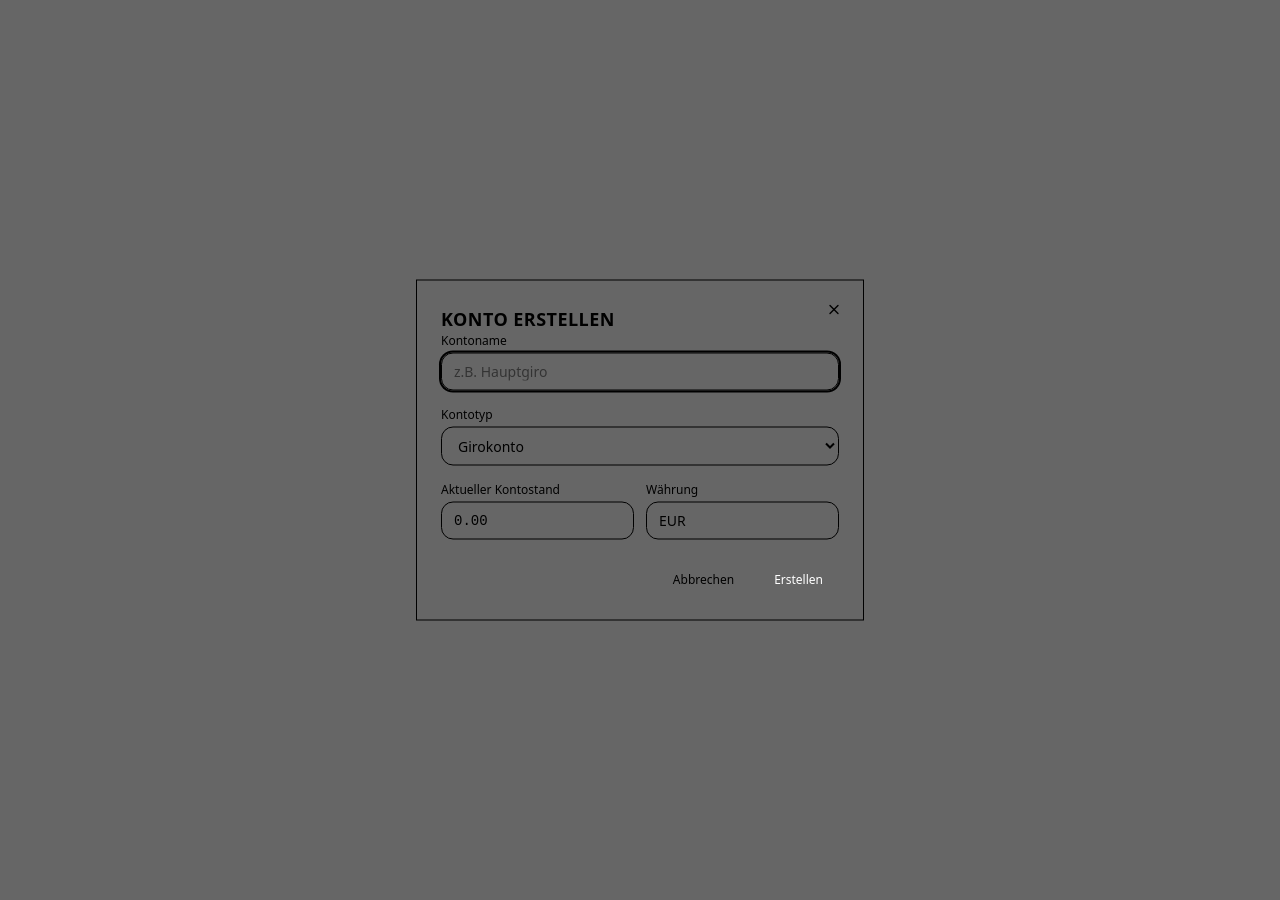
Test: dialogs surface failed saves › AccountDialog shows the server message and stays open
The width and height of the screenshot is (1280, 900).
Type "Main" into the field labelled "Kontoname" at (640, 372), box [441, 352, 839, 390]
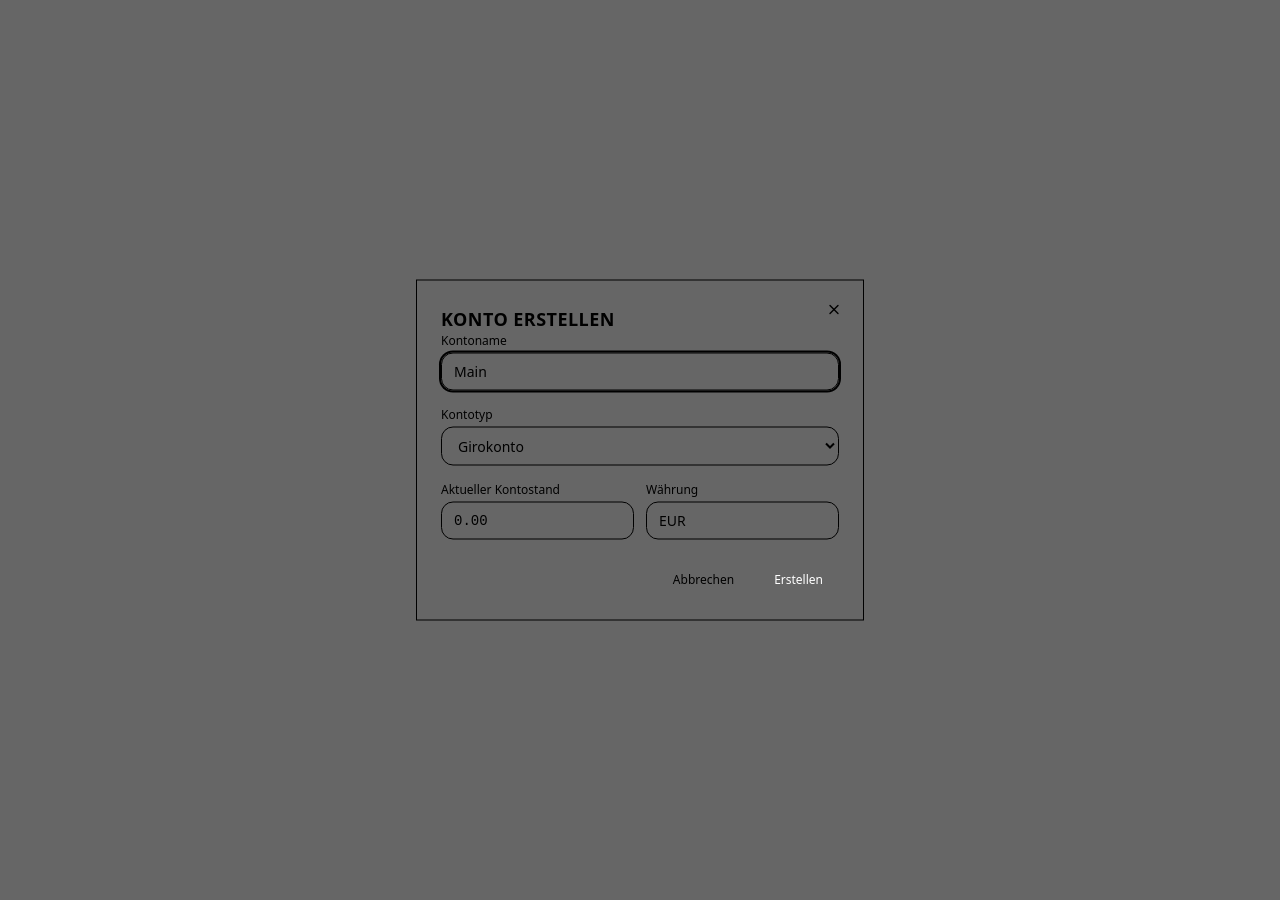
Submit the form labelled "Kontoname", box [441, 332, 839, 596]
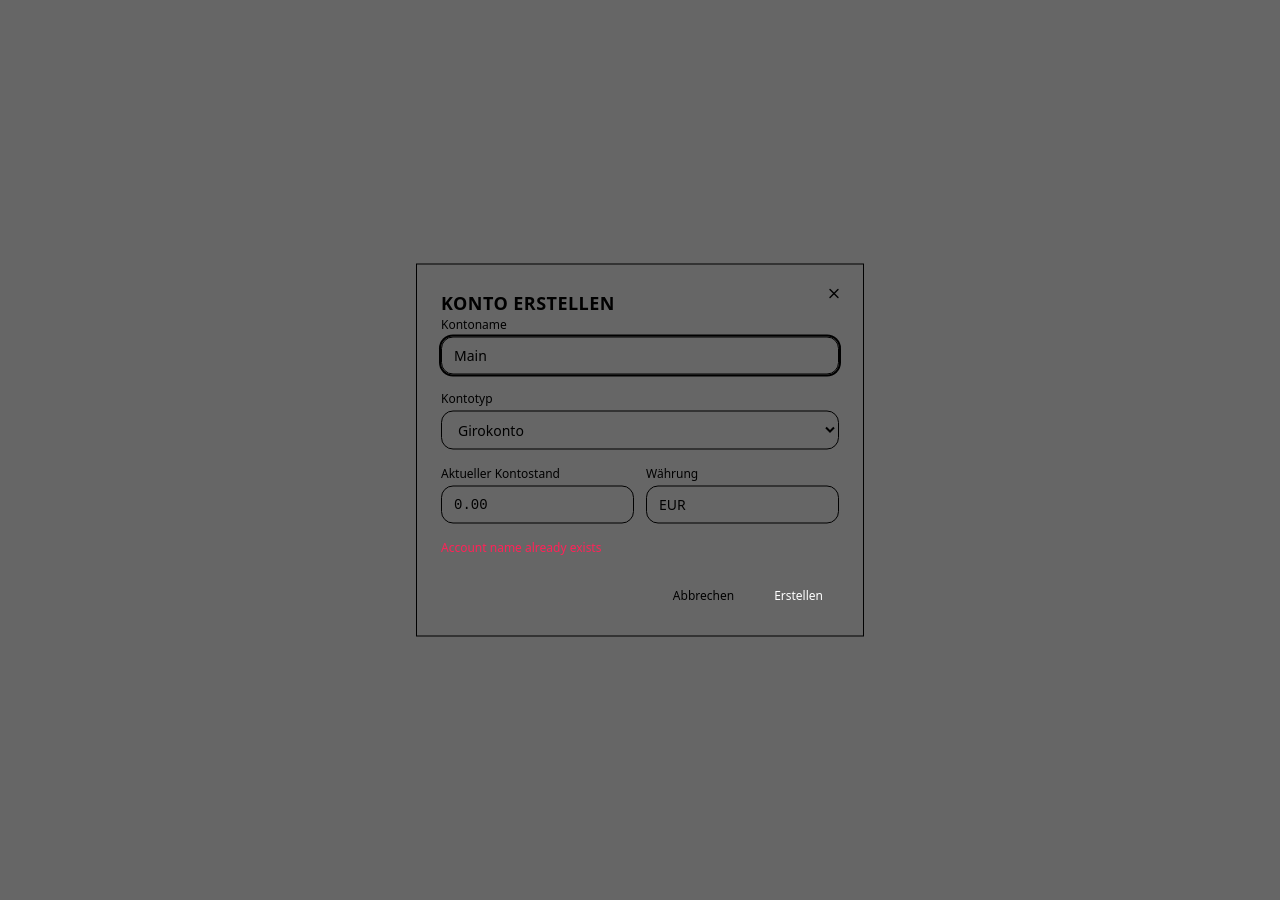
Result: the message reads "Account name already exists" at [441, 538, 602, 556]
